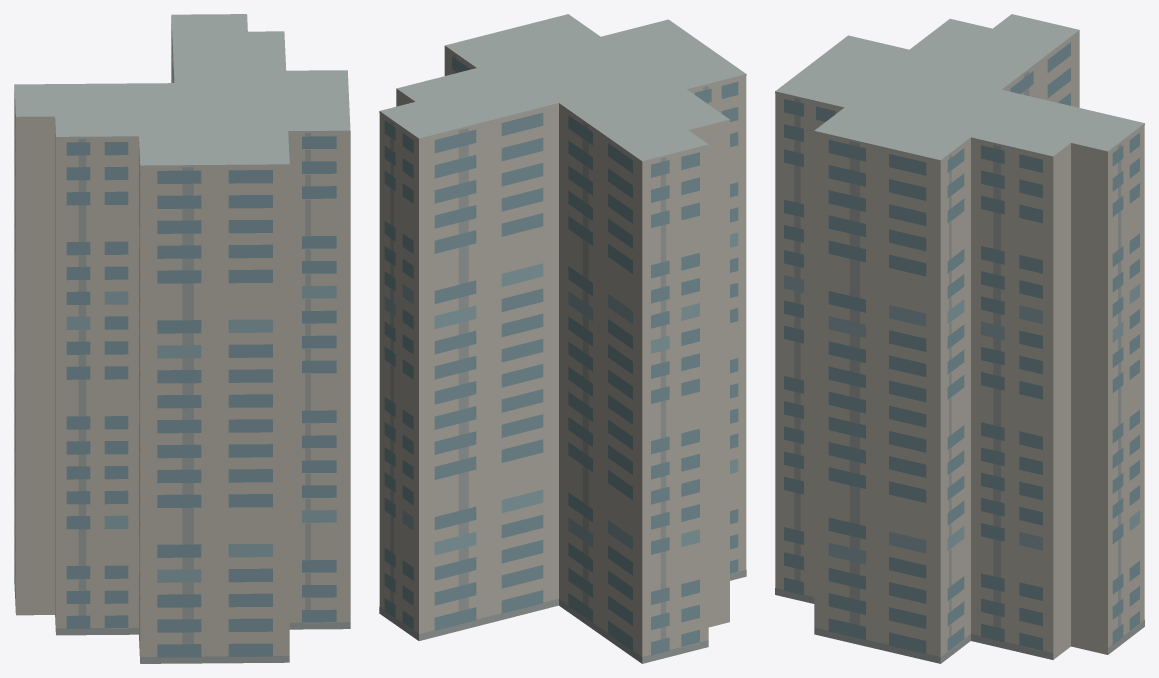
Rendered from residential-e8fd2be0-6d00-4e1b-8777-c3930c673e45.glb.
3 renders of one model, left to right at view 1: azimuth 30°, elevation 25°; view 2: azimuth 150°, elevation 25°; view 3: azimuth 270°, elevation 25°, orthographic.
Visible parts, largest first — view 1: residential-e8fd2be0-6d00-4e1b-8777-c3930c673e45.tmp; view 2: residential-e8fd2be0-6d00-4e1b-8777-c3930c673e45.tmp; view 3: residential-e8fd2be0-6d00-4e1b-8777-c3930c673e45.tmp.
Part boxes in pixels (left/top/right/bottom): residential-e8fd2be0-6d00-4e1b-8777-c3930c673e45.tmp: left=14, top=14, right=350, bottom=663; residential-e8fd2be0-6d00-4e1b-8777-c3930c673e45.tmp: left=379, top=14, right=746, bottom=663; residential-e8fd2be0-6d00-4e1b-8777-c3930c673e45.tmp: left=775, top=14, right=1144, bottom=663.
Bounding box in the file's own units: 35.52 × 57 × 37.93.
